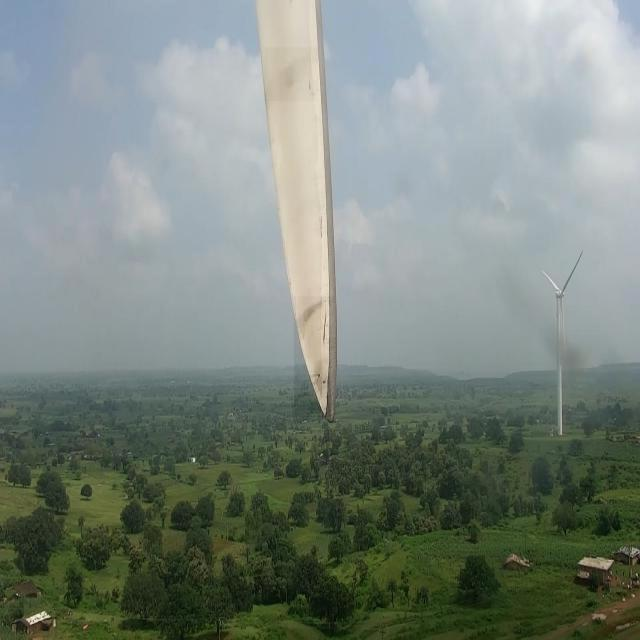Dirt: (261, 45, 341, 395)
Pin Hole: (315, 370, 330, 388)
